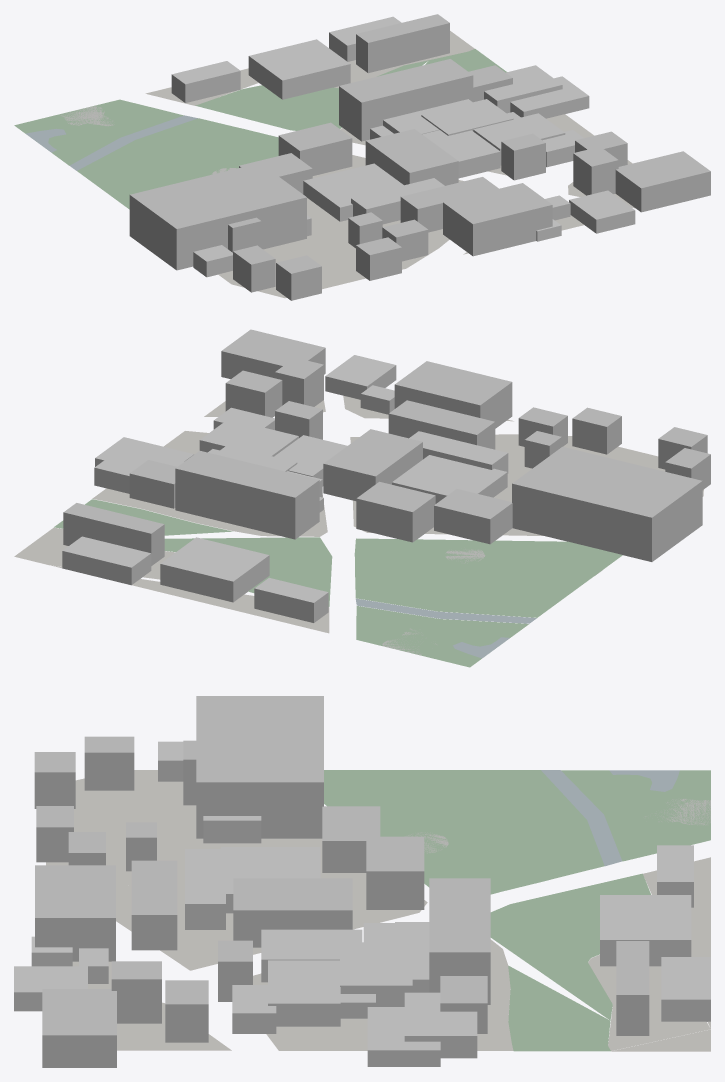
File: 108_107_mid.glb
3 views of the same model, one above another, from view 1: azimuth 30°, elevation 25°; view 2: azimuth 150°, elevation 25°; view 3: azimuth 270°, elevation 25° (orthographic). The views are drawn at different scales.
Bounding box in the file's own units: 562 × 47.24 × 524.
